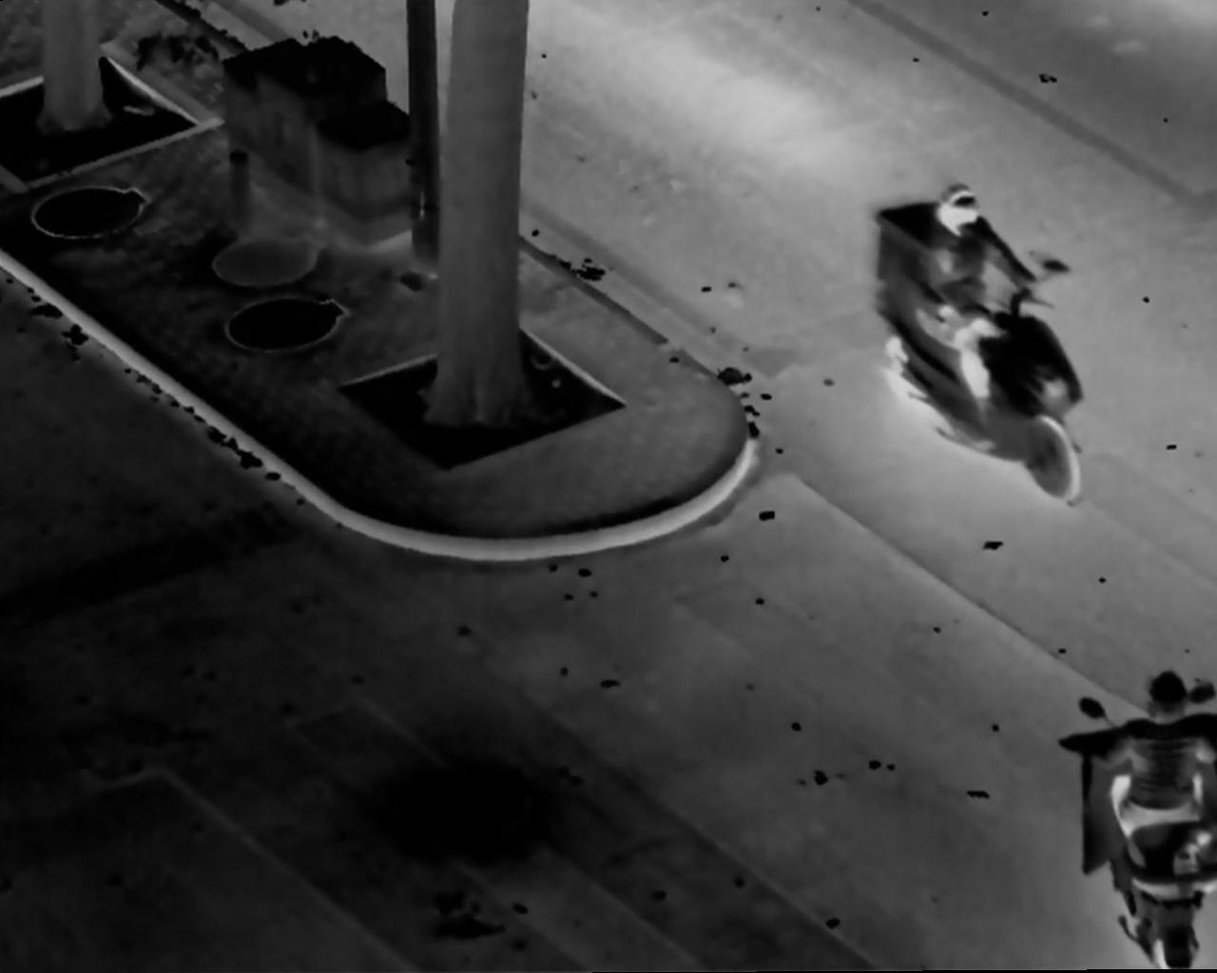person: (898, 180, 1035, 439), (1117, 664, 1208, 913)
